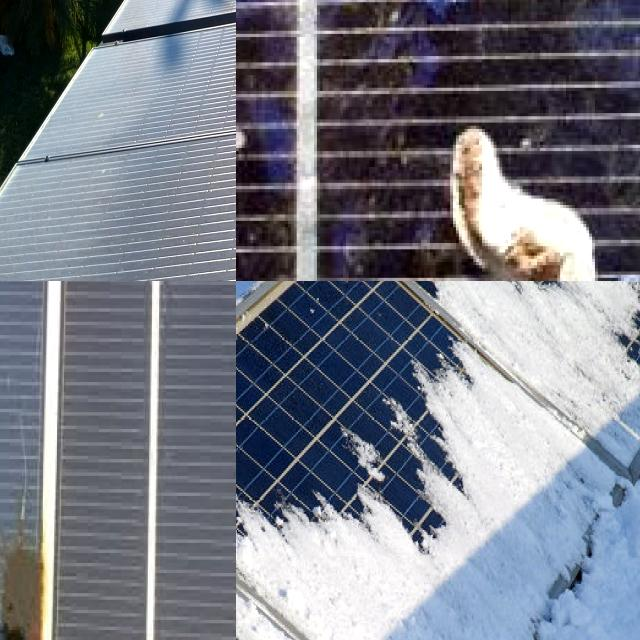bird: (413, 124, 620, 281), (236, 113, 282, 160)
dust: (86, 54, 181, 197), (0, 163, 106, 281), (129, 3, 189, 142), (178, 0, 236, 60)
panel: (252, 422, 439, 614), (304, 459, 447, 582), (358, 342, 497, 454), (236, 522, 322, 640), (397, 281, 496, 349), (425, 281, 532, 327), (236, 483, 303, 550), (576, 281, 640, 337), (511, 281, 591, 323), (236, 394, 281, 466)
shadow: (0, 498, 67, 640)
